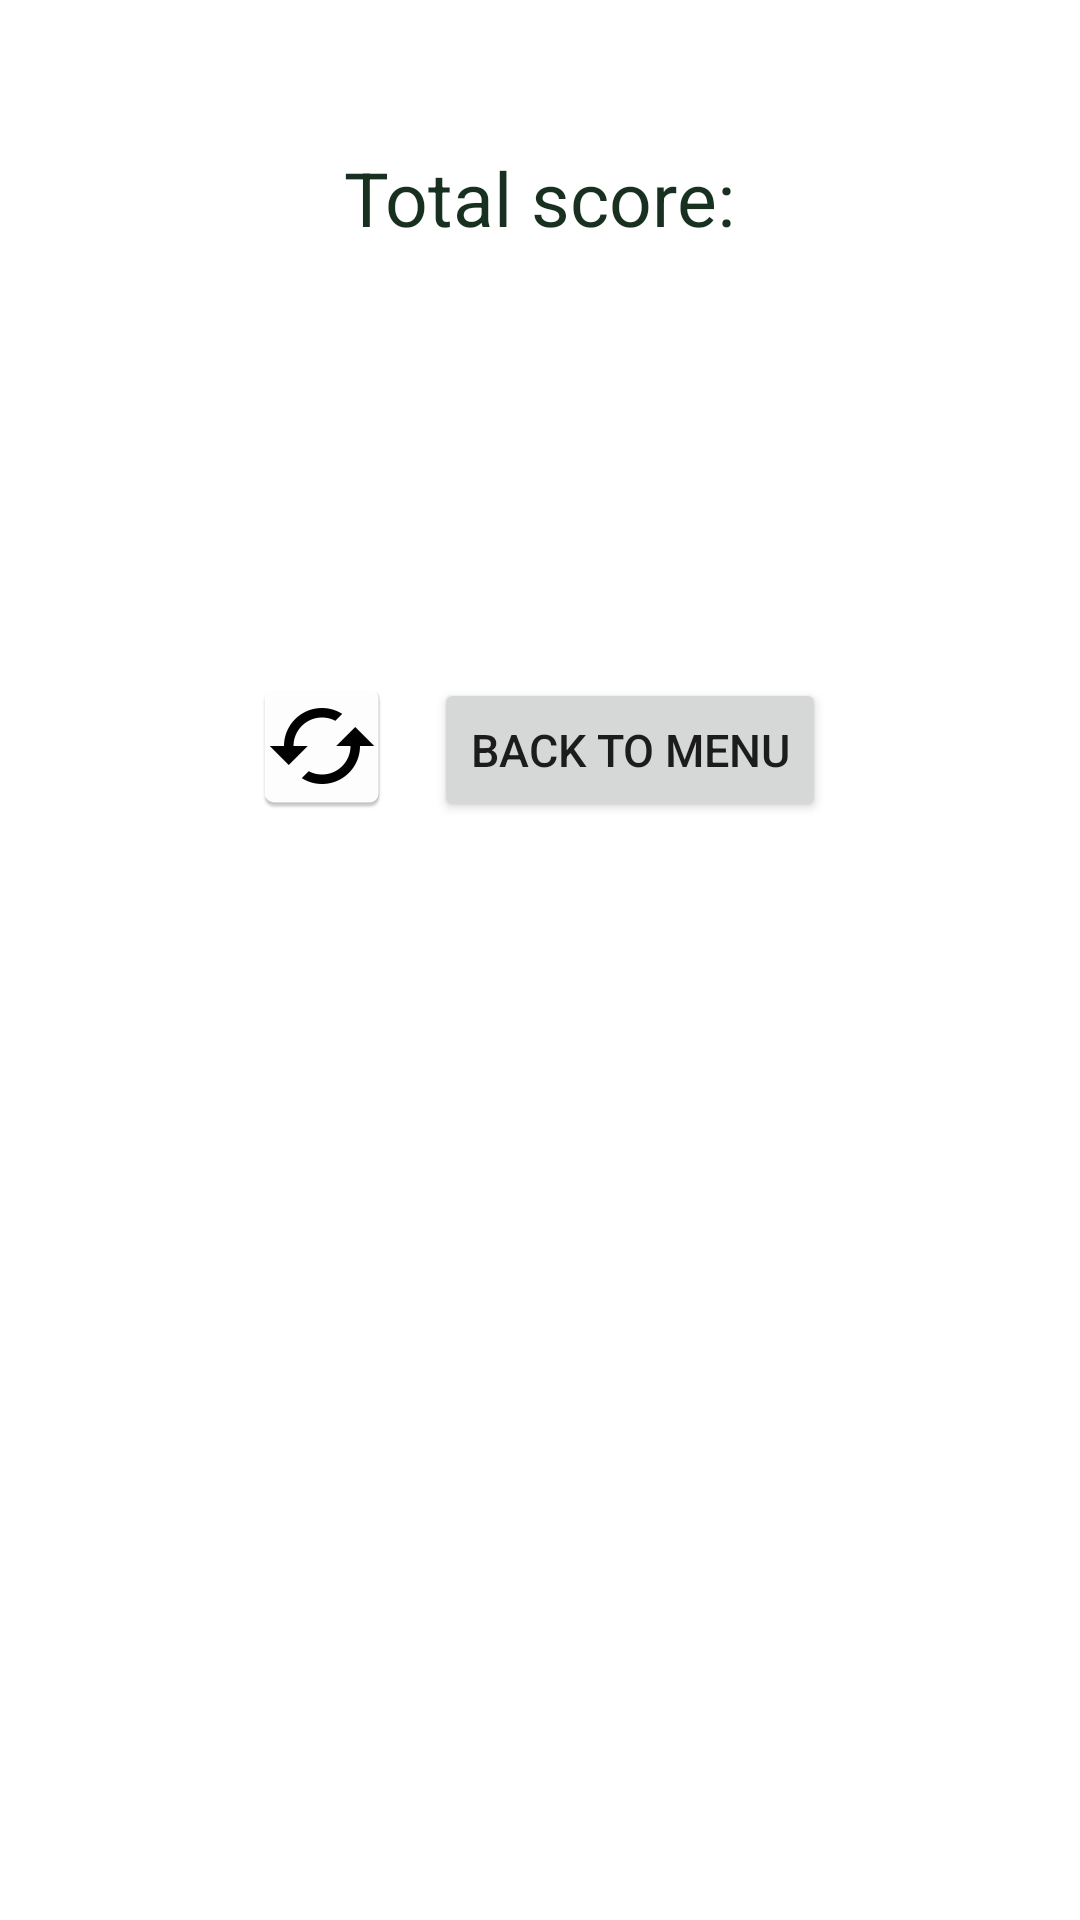

Icons on this 1080 x 1920 Android screen, each with its box as (x1, y1, x2, y2):
refreshicon: (265, 695, 380, 807)
